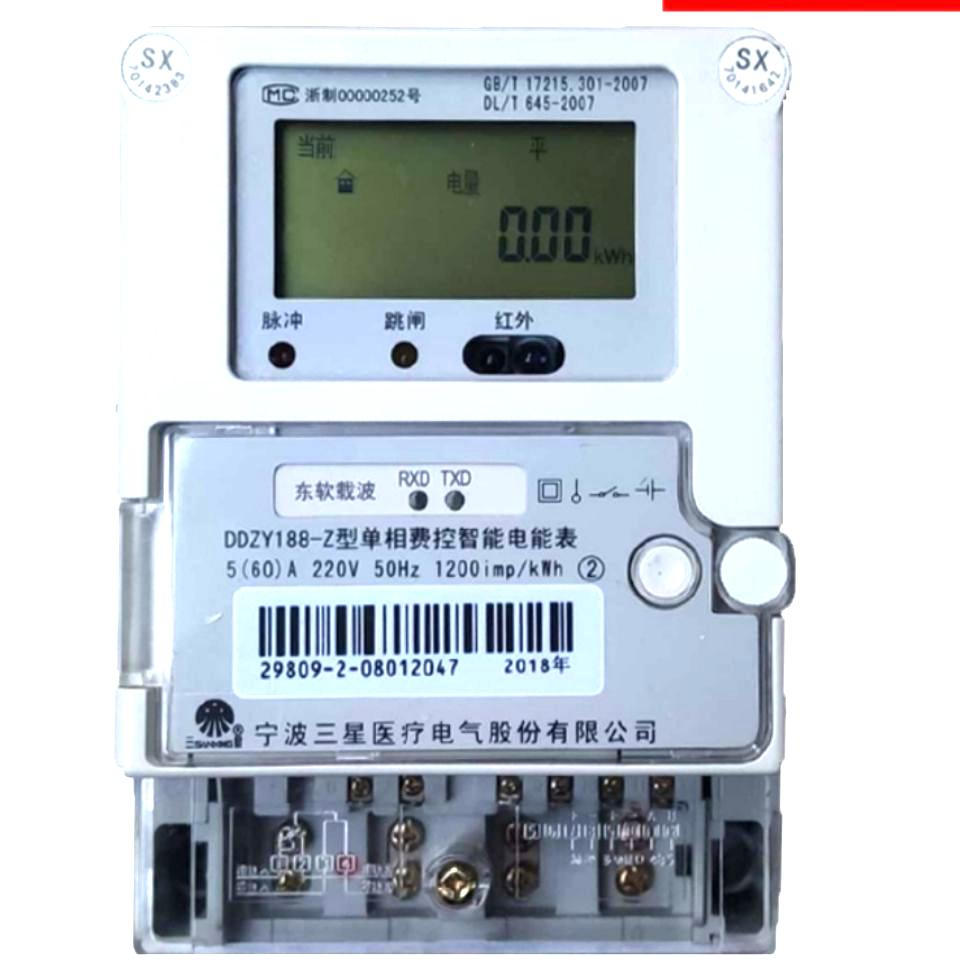digital: (121, 21, 781, 775)
